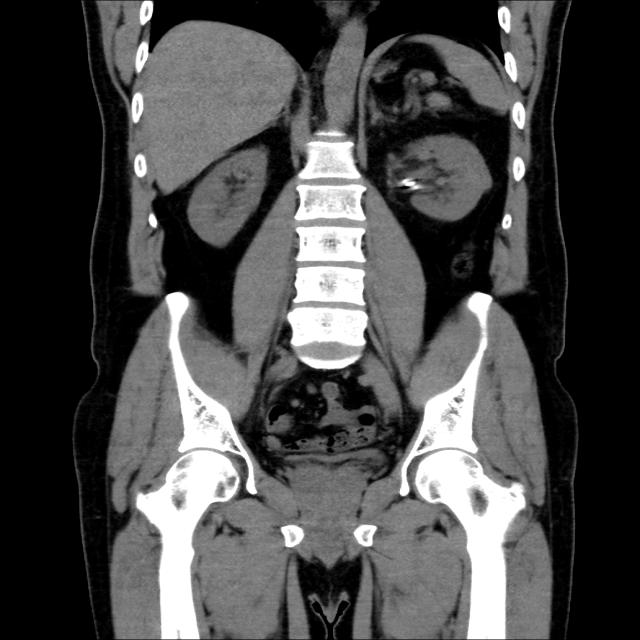kidneystone: (391, 178, 431, 193)
